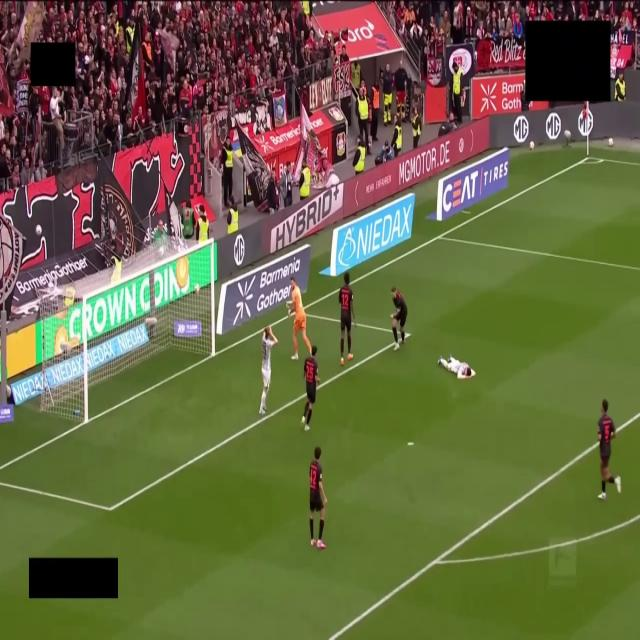player: (598, 400, 621, 500), (287, 278, 311, 359), (309, 446, 327, 550), (259, 328, 277, 414), (301, 346, 319, 431), (339, 272, 355, 366), (391, 287, 407, 350), (438, 356, 475, 379)
